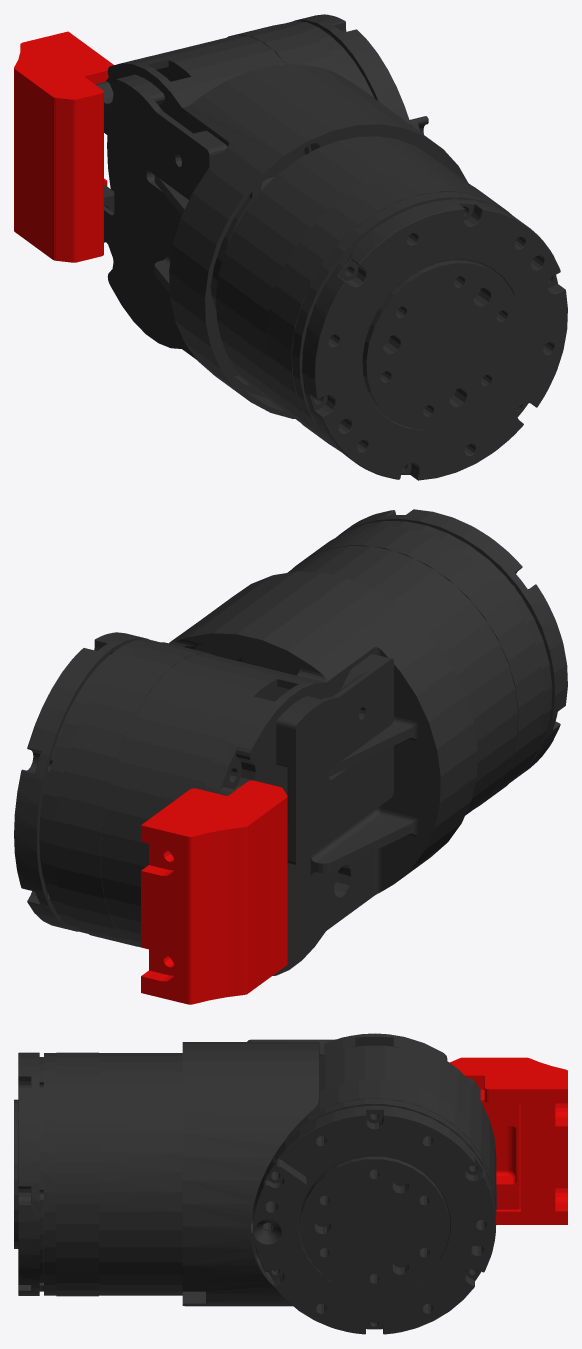
3 renders of one model, top to bottom at view 1: azimuth 30°, elevation 25°; view 2: azimuth 150°, elevation 25°; view 3: azimuth 270°, elevation 25°, orthographic. The views are drawn at different scales.
Parts seen in each view (by area): view 1: left_link15; view 2: left_link15; view 3: left_link15.
Boxes of the visible parts, box(x1,y1,x2,y2) form: left_link15: box(14, 14, 567, 480); left_link15: box(14, 509, 567, 1004); left_link15: box(14, 1033, 567, 1334).
Bounding box in the file's own units: 0.0629 × 0.0619 × 0.1298.
